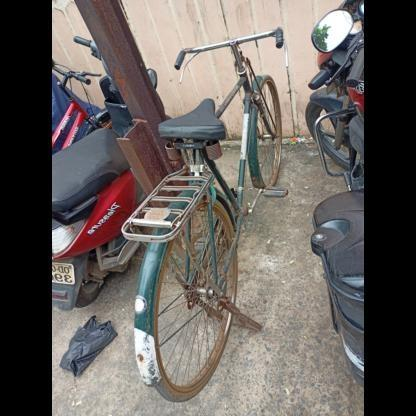Bicycle: (112, 17, 302, 412)
